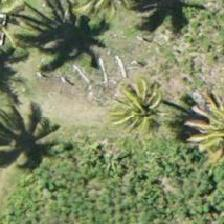coconut_tree: (100, 59, 190, 149)
